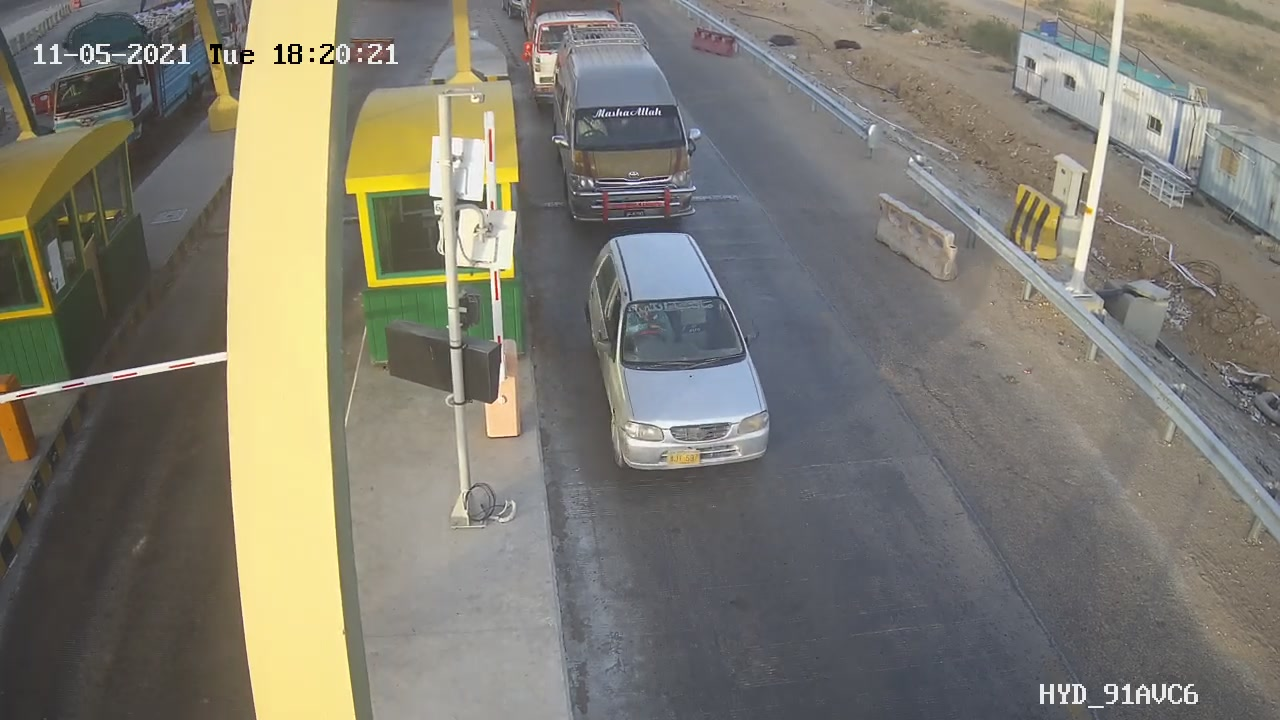F2: (544, 43, 713, 227)
